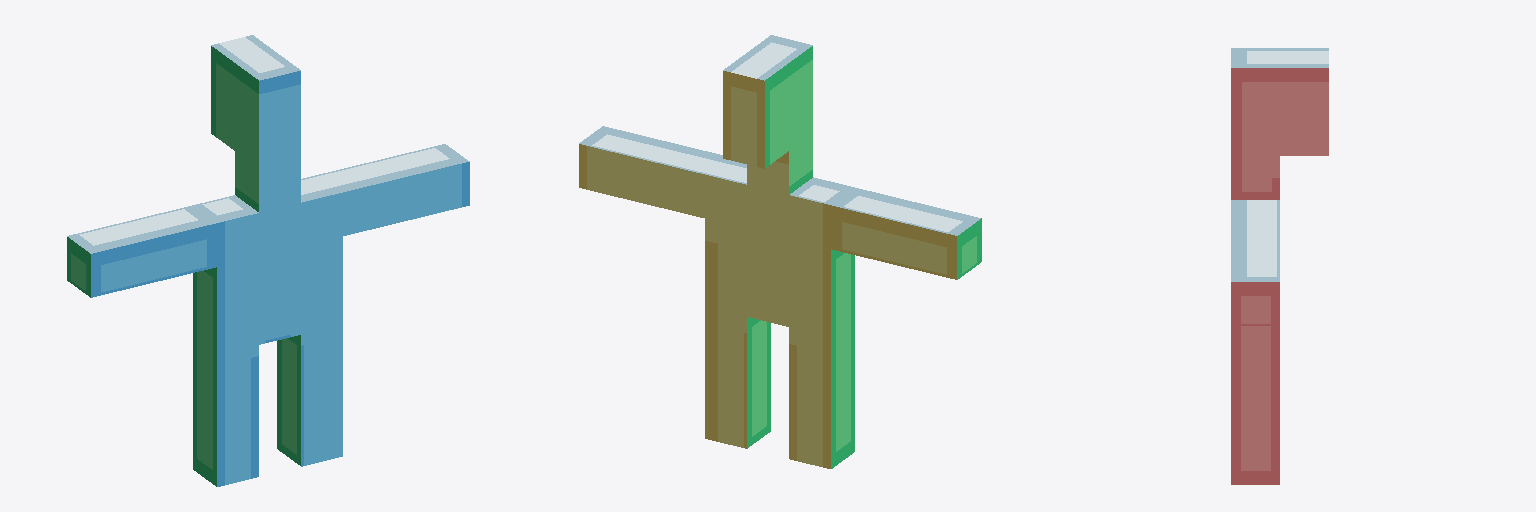
The picture shows the model from 3 angles: view 1: azimuth 30°, elevation 25°; view 2: azimuth 150°, elevation 25°; view 3: azimuth 270°, elevation 25°; orthographic projection.
Visible parts, largest first — view 1: mesh, head, left_arm, left_leg, right_arm, right_leg; view 2: mesh, head, left_arm, left_leg, right_arm, right_leg; view 3: head, right_leg, right_arm, mesh.
Part boxes in pixels (bbox=[...]): mesh: bbox=[193, 175, 342, 354]; head: bbox=[211, 35, 300, 212]; left_arm: bbox=[67, 205, 216, 297]; left_leg: bbox=[193, 338, 258, 486]; right_arm: bbox=[319, 144, 469, 235]; right_leg: bbox=[277, 325, 342, 466]; mesh: bbox=[705, 159, 854, 336]; head: bbox=[723, 35, 812, 194]; left_arm: bbox=[831, 188, 981, 279]; left_leg: bbox=[789, 320, 854, 468]; right_arm: bbox=[579, 126, 724, 217]; right_leg: bbox=[705, 307, 770, 448]; head: bbox=[1231, 48, 1328, 199]; right_leg: bbox=[1231, 353, 1279, 484]; right_arm: bbox=[1231, 221, 1279, 325]; mesh: bbox=[1231, 200, 1279, 352].
Bounding box in the file's own units: 0.9 × 0.9 × 0.2.
Materials: 1 (1 with a texture image).